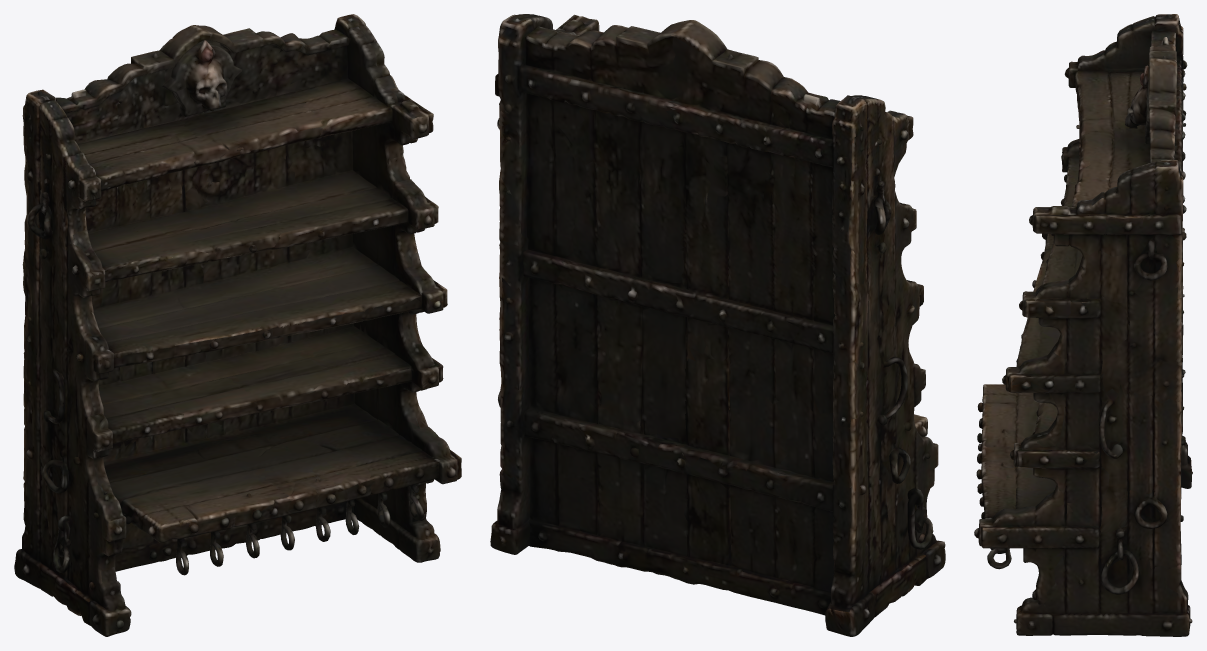
Rendered from rack.glb.
3 renders of one model, left to right at view 1: azimuth 30°, elevation 25°; view 2: azimuth 150°, elevation 25°; view 3: azimuth 270°, elevation 25°, orthographic. The views are drawn at different scales.
Visible parts, largest first — view 1: tripo_node_ca667965-d699-4b3c-8302-d93424d3c0dc; view 2: tripo_node_ca667965-d699-4b3c-8302-d93424d3c0dc; view 3: tripo_node_ca667965-d699-4b3c-8302-d93424d3c0dc.
Boxes of the visible parts, x1,y1,x2,y2 form: tripo_node_ca667965-d699-4b3c-8302-d93424d3c0dc: (14, 14, 461, 636); tripo_node_ca667965-d699-4b3c-8302-d93424d3c0dc: (490, 14, 945, 636); tripo_node_ca667965-d699-4b3c-8302-d93424d3c0dc: (974, 14, 1192, 636).
Bounding box in the file's own units: 0.732 × 1 × 0.3967.
1 material, 1 textured.
